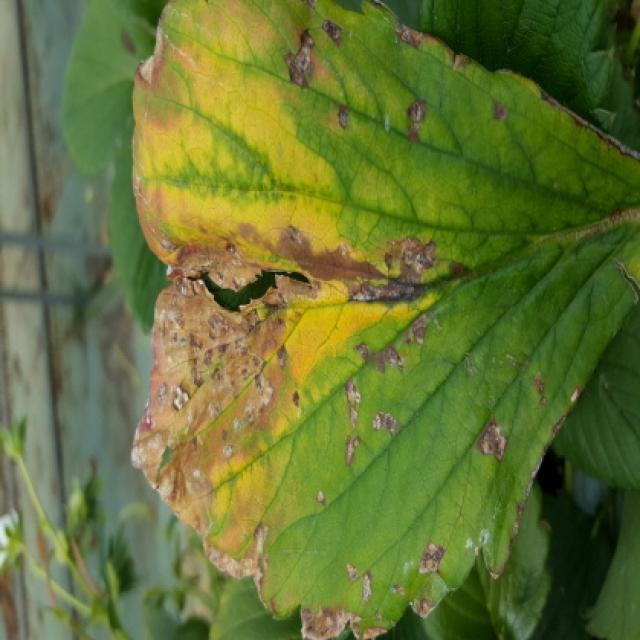Angular Leafspot: (129, 0, 638, 638)
